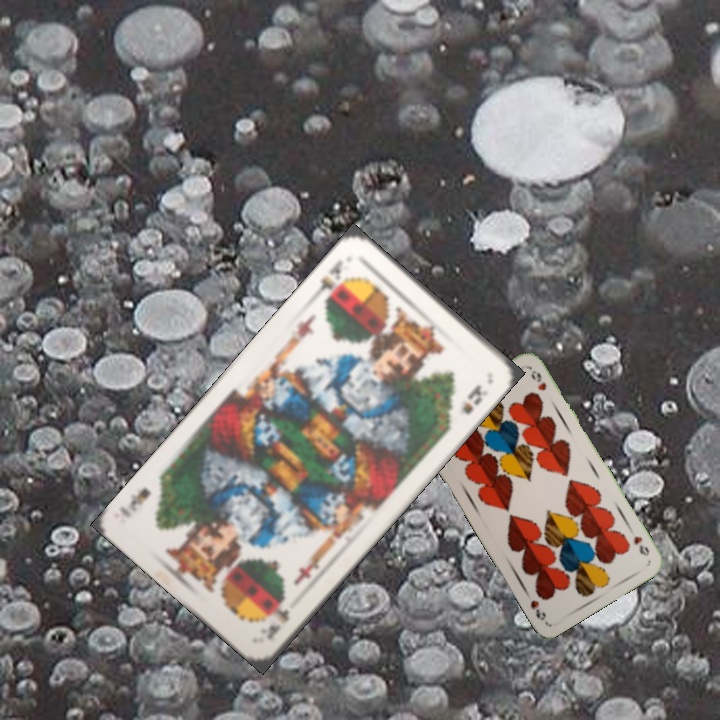H9: (629, 532, 652, 558)
SK: (311, 256, 350, 305), (262, 594, 292, 643)
